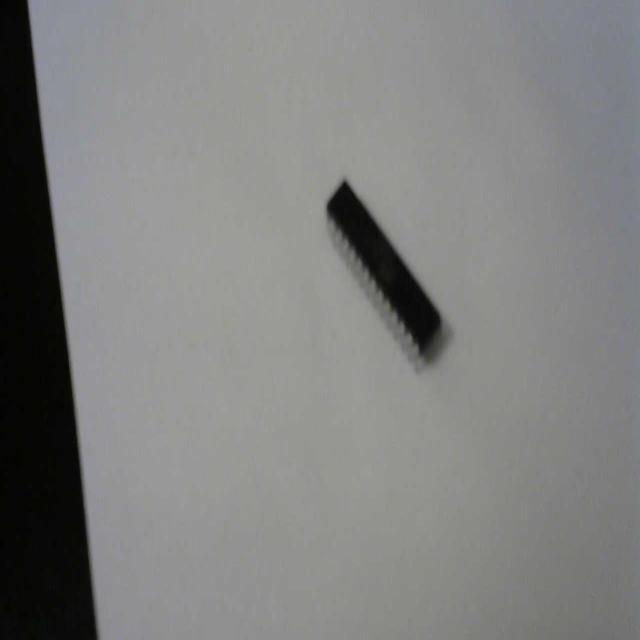atmega: (322, 172, 446, 368)
